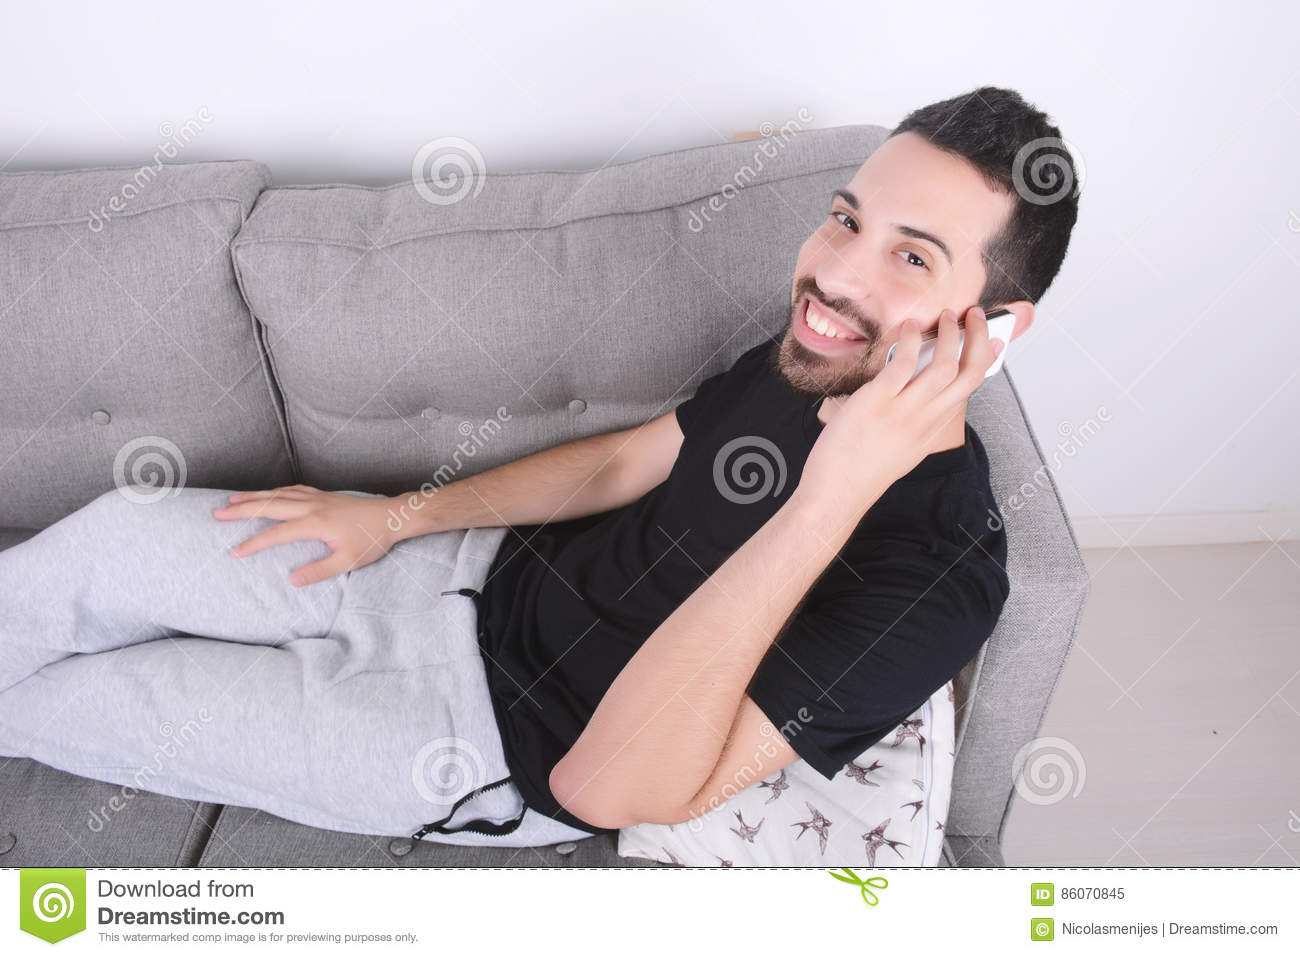phone: (887, 313, 1012, 393)
talk: (772, 182, 1014, 495)
